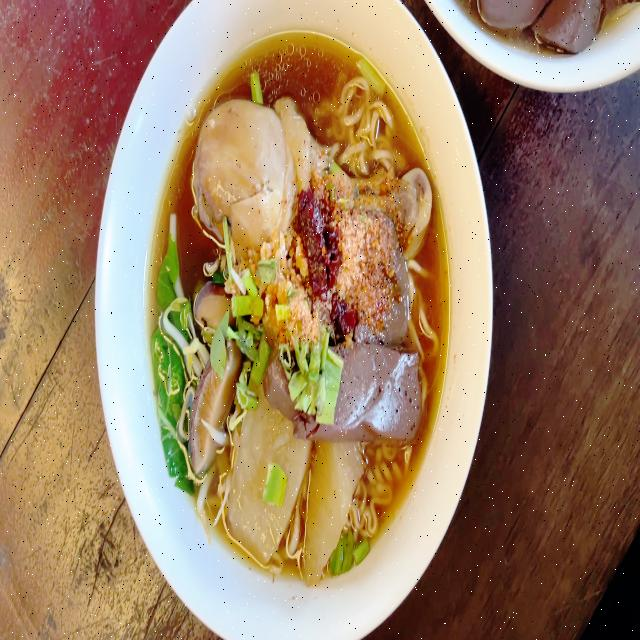boiled_chicken_blood_jelly: (337, 342, 417, 441)
chicken_drumstick: (190, 105, 433, 255)
daikon_radish: (230, 418, 364, 556)
noodle: (143, 29, 457, 586)
